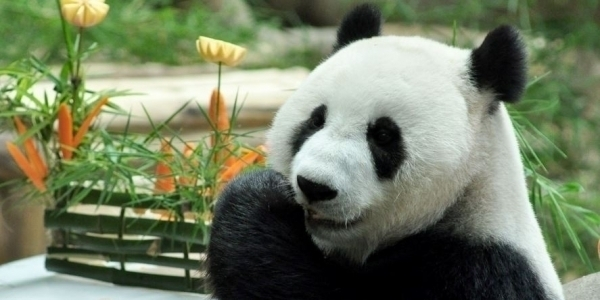panda: (202, 2, 565, 300)
